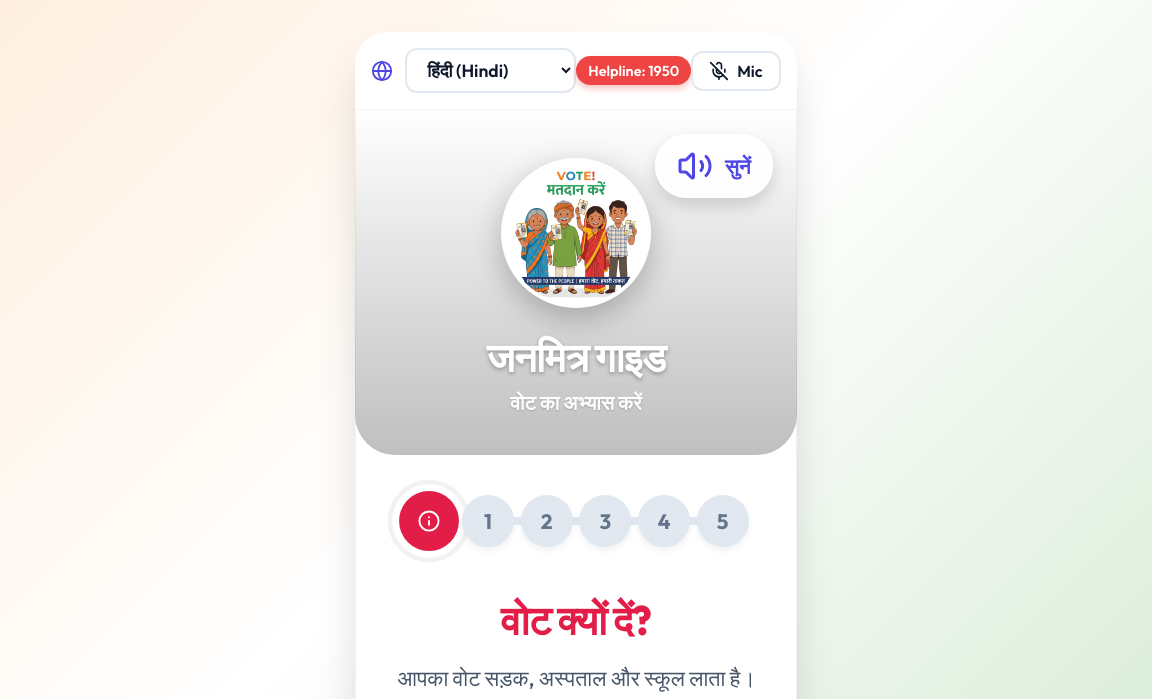
Test case: ElectionAssistant Component › can change languages
# Change to English
Select "English" in the dropdown named "Select Language" at (491, 70), box [405,48,576,93]
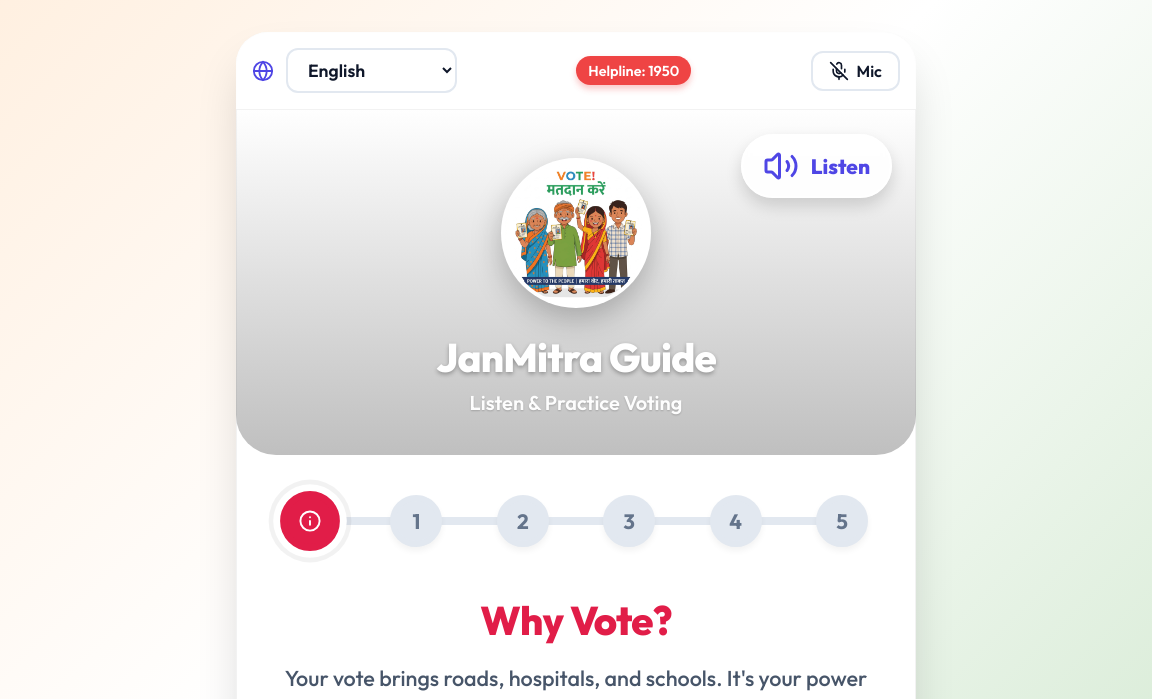
Now the heading "JanMitra Guide" is shown, box [436,332,716,382]
Now the heading "Why Vote?" is shown, box [480,595,672,645]
